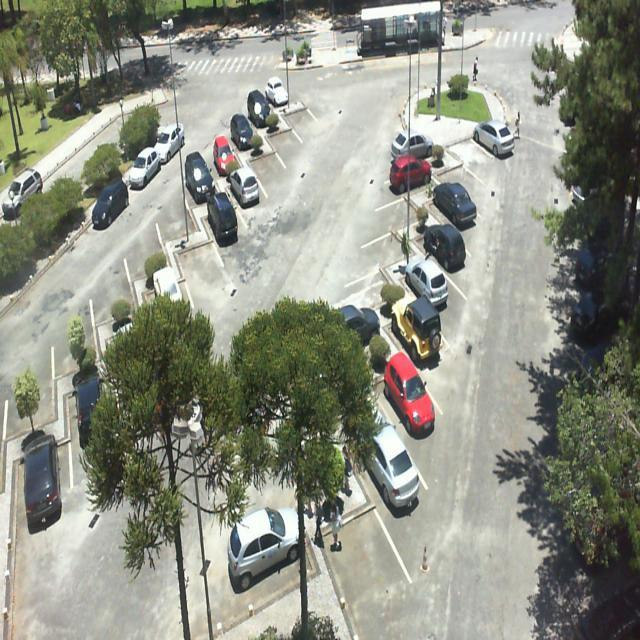space-empty: (322, 488, 402, 620), (339, 250, 398, 310), (94, 245, 136, 324), (356, 215, 414, 266), (368, 176, 426, 226), (437, 147, 489, 200), (126, 214, 167, 279), (181, 222, 220, 290), (158, 180, 196, 242), (449, 122, 492, 168), (265, 107, 303, 157), (248, 134, 285, 182), (282, 88, 318, 134)
space-occupied: (235, 500, 324, 608), (351, 401, 425, 521), (386, 287, 451, 382), (374, 355, 440, 444), (405, 251, 459, 328), (416, 205, 469, 274), (426, 173, 478, 236), (204, 189, 243, 248), (229, 159, 267, 218), (380, 150, 434, 190), (205, 125, 240, 179), (225, 105, 261, 156), (183, 151, 218, 202), (399, 126, 442, 159), (245, 87, 276, 132)
